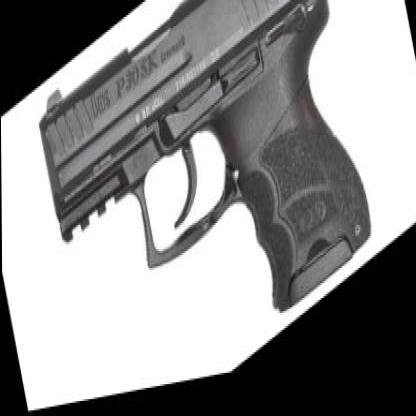pistol: (28, 0, 380, 407)
